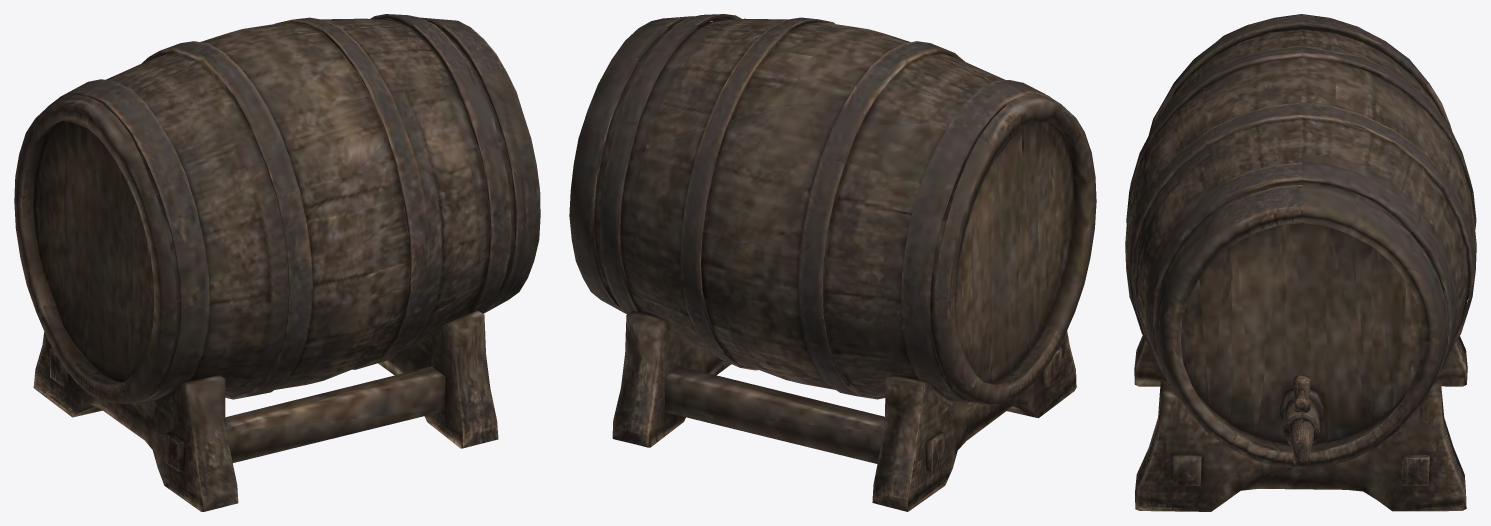
Rendered from d_barrel_large_decorated.glb.
3 renders of one model, left to right at view 1: azimuth 30°, elevation 25°; view 2: azimuth 150°, elevation 25°; view 3: azimuth 270°, elevation 25°, orthographic.
Visible parts, largest first — view 1: d_barrel_large_decorated; view 2: d_barrel_large_decorated; view 3: d_barrel_large_decorated.
Part boxes in pixels (x1=…): d_barrel_large_decorated: x1=14, y1=14, x2=540, y2=511; d_barrel_large_decorated: x1=569, y1=14, x2=1096, y2=511; d_barrel_large_decorated: x1=1125, y1=14, x2=1476, y2=511.
Size of the model in its own units: 1.94 by 1.62 by 1.4.
1 material, 1 textured.
